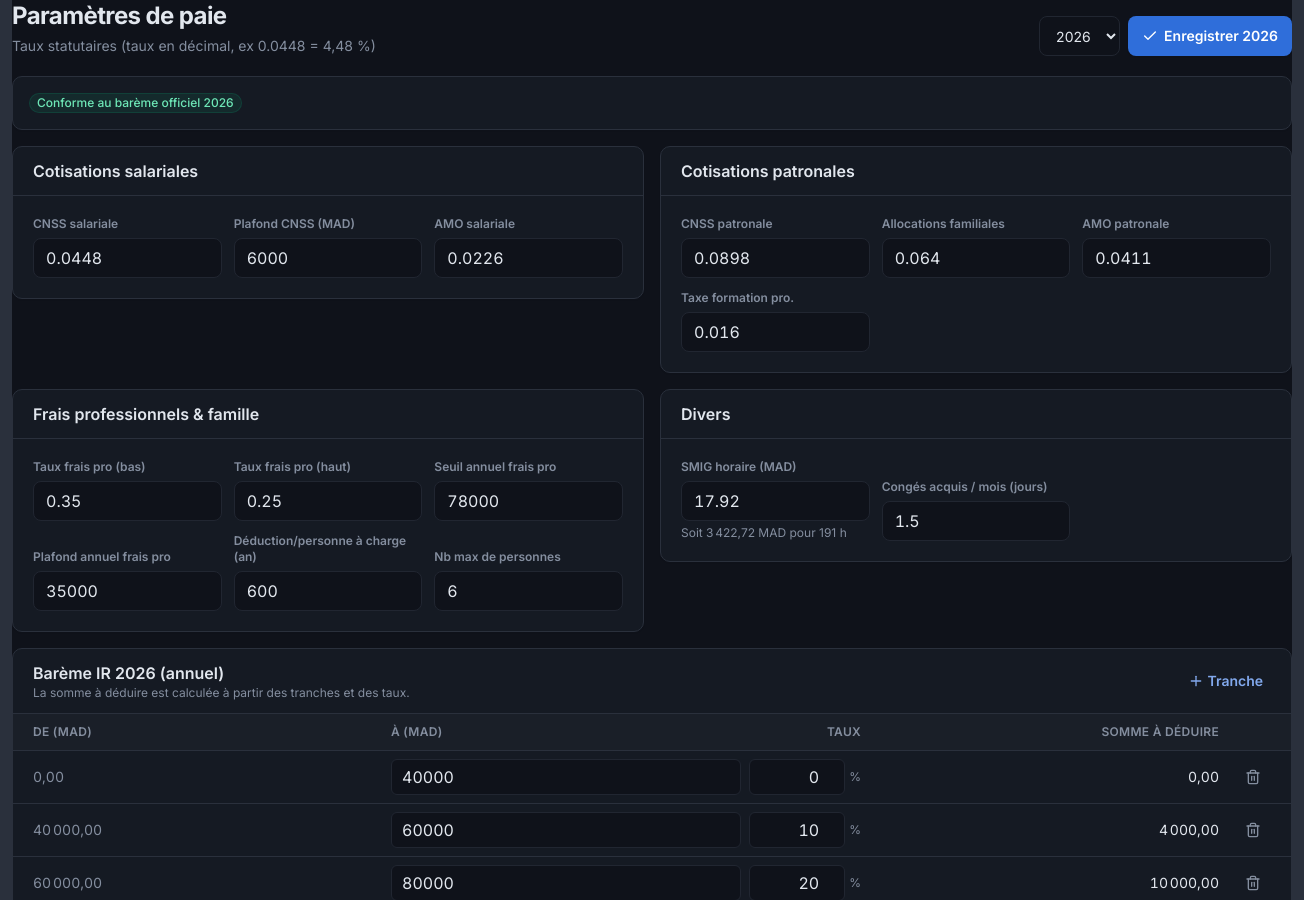
Test: payroll settings page › edits the IR scale with computed deductions and refuses a broken scale
Expected: the heading "Barème IR 2026 (annuel)" is shown, [33,663,224,683]
Step 1. Replace the text in the number field named "Taux de la tranche 2" with "150" → point(797, 830), box [749,812,845,848]
(page scrolled)
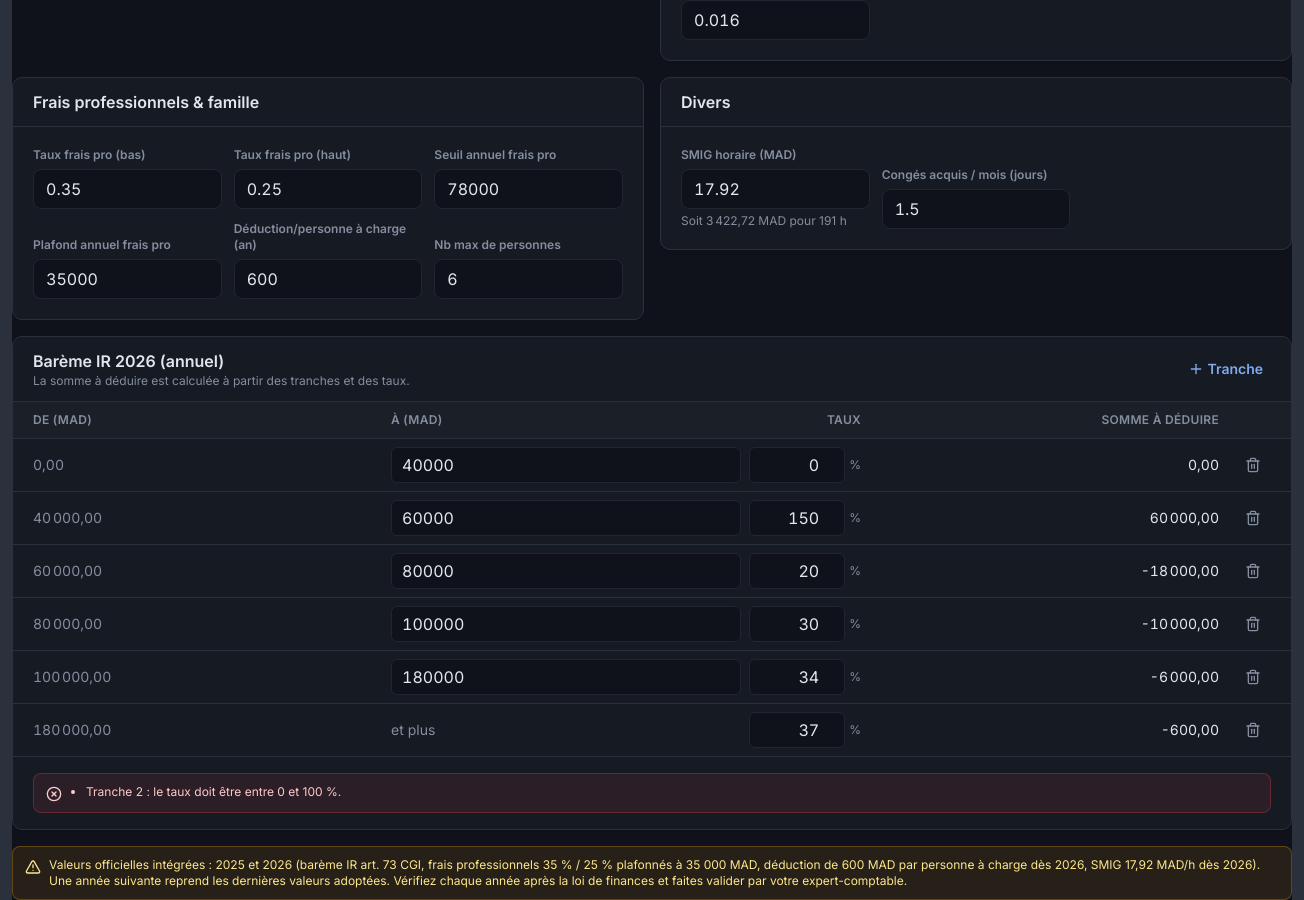
Now the list item "Tranche 2 : le taux doit être entre 0 et 100 %." is shown, box [86,784,341,800]
